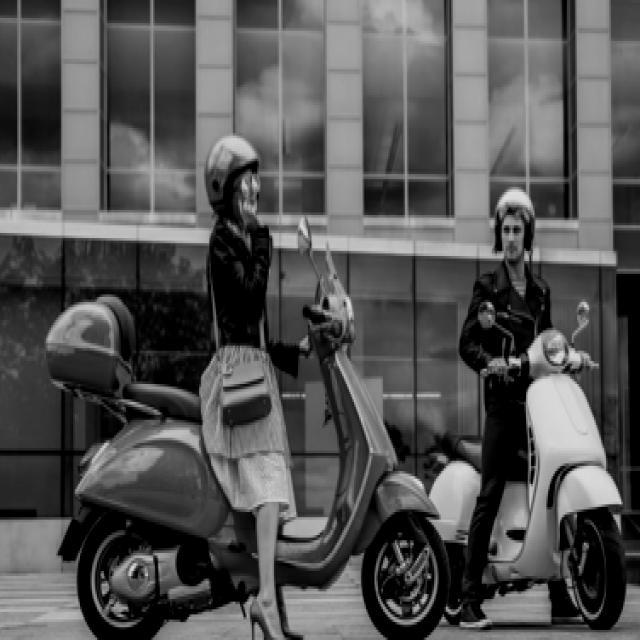Helmet: (201, 125, 269, 228), (478, 182, 550, 264)
